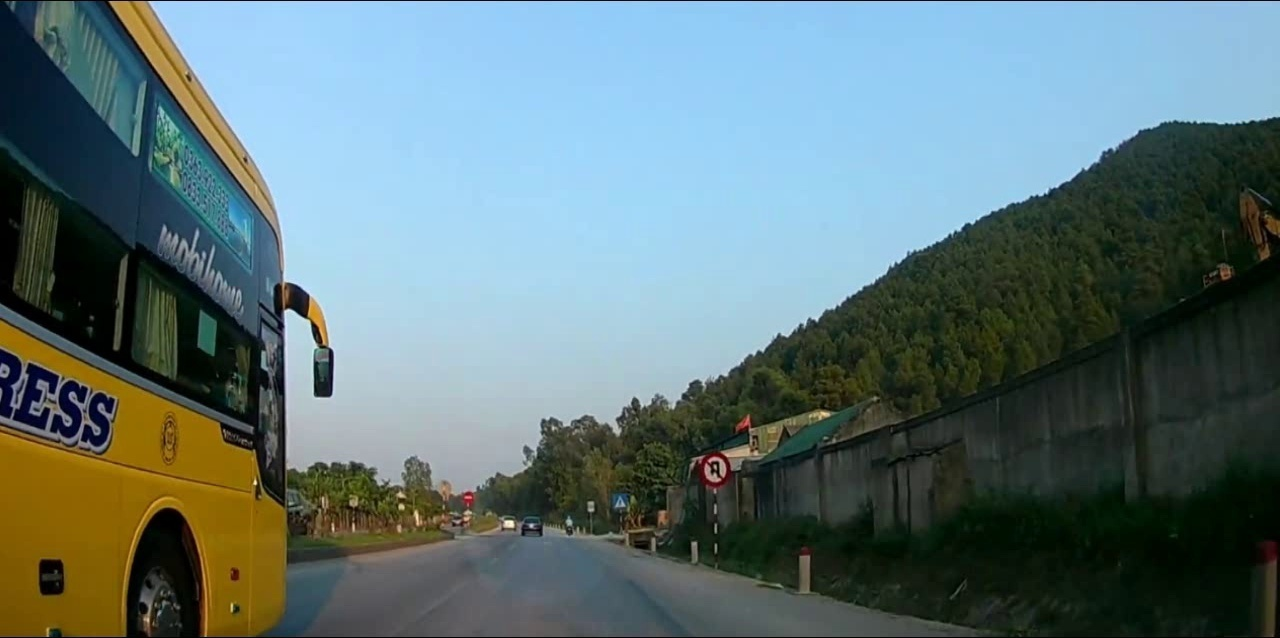Bien khac: (702, 451, 728, 486)
Cam di nguoc chieu: (459, 487, 474, 504)
Nguoi di bo: (611, 493, 626, 511)
